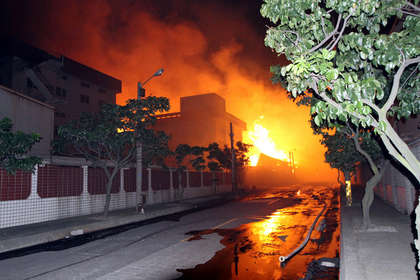fire: (236, 114, 308, 174)
smoke: (66, 10, 270, 97)
